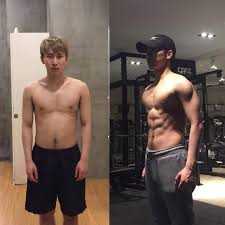people: (24, 37, 90, 225), (136, 35, 200, 225)
